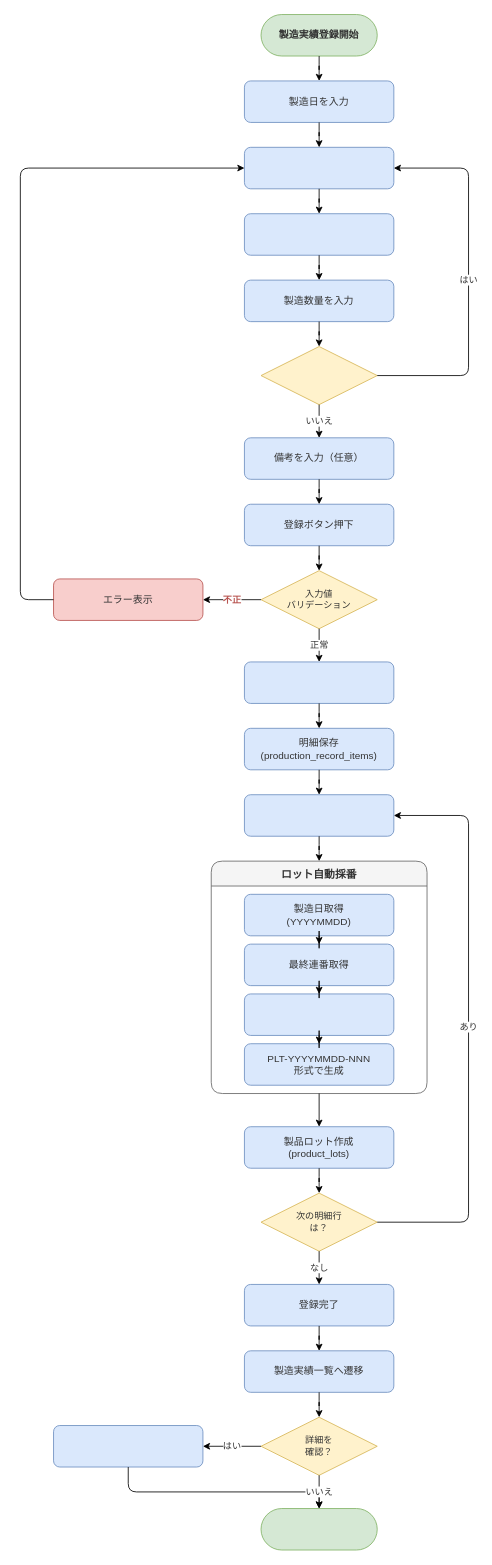
The diagram is 492 pixels wide and 1565 high, and some of its shapes have lost their labels. Each missing label, with the box of its shape:
他の製品も 登録する？: (260, 346, 377, 405)
各明細行に対してループ: (244, 794, 394, 836)
明細行を追加: (244, 146, 394, 189)
次の連番算出（+1）: (244, 993, 394, 1035)
終了: (260, 1508, 377, 1550)
製品を選択 (絹ごし/木綿/厚揚げ/油揚げ): (244, 213, 394, 255)
製造実績ヘッダー保存 (production_records): (244, 661, 394, 703)
詳細表示: (53, 1425, 203, 1467)
